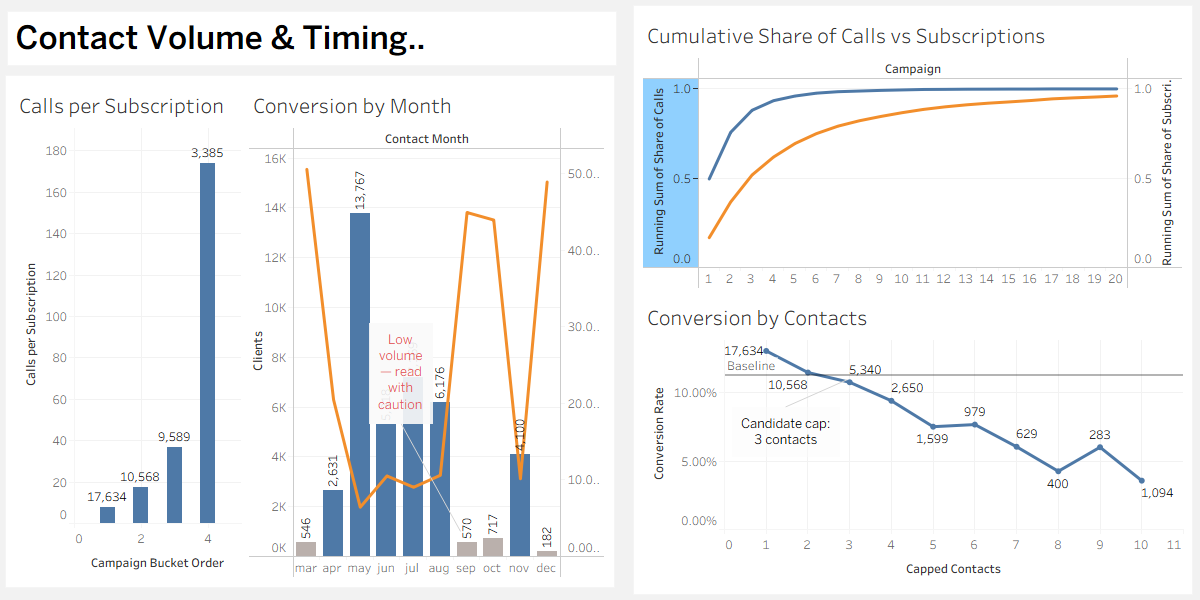

The page's visual inventory and layout, read from the dashboard file:
{"tool":"tableau","page":{"name":"Contact Volume & Timing","canvas":[1200,600],"ordinal":2},"visuals":[{"type":"text","box":[0,0,620,60]},{"type":"worksheet","title":"Cumulative Share of Calls vs Subscriptions","mark":"Line","cols":["campaign"],"box":[639,11,548,282.5]},{"type":"worksheet","title":"Calls per Subscription","mark":"Bar","rows":["Calculation_1690823979859979"],"cols":["Calculation_1690823977967617"],"box":[11,81,234,501]},{"type":"worksheet","title":"Conversion by Month","mark":"Bar","rows":["Calculation_1690823979470855","Calculation_1690823979683849"],"cols":["contact_month"],"box":[245,81,363.9,501]},{"type":"worksheet","title":"Conversion by Contacts","mark":"Line","rows":["Calculation_1690823979683849"],"cols":["Calculation_2229859915321349"],"box":[639,293.5,548,295.5]}]}

Visuals, with their boxes in screenshot pixels (x1, y1, x2, y2), scaled from the page's 1200x600 canvas onto the 1200x600 screenshot:
text: detection(0, 0, 620, 60)
"Cumulative Share of Calls vs Subscriptions" worksheet (Line marks): detection(639, 11, 1187, 294)
"Calls per Subscription" worksheet (Bar marks): detection(11, 81, 245, 582)
"Conversion by Month" worksheet (Bar marks): detection(245, 81, 609, 582)
"Conversion by Contacts" worksheet (Line marks): detection(639, 294, 1187, 589)
